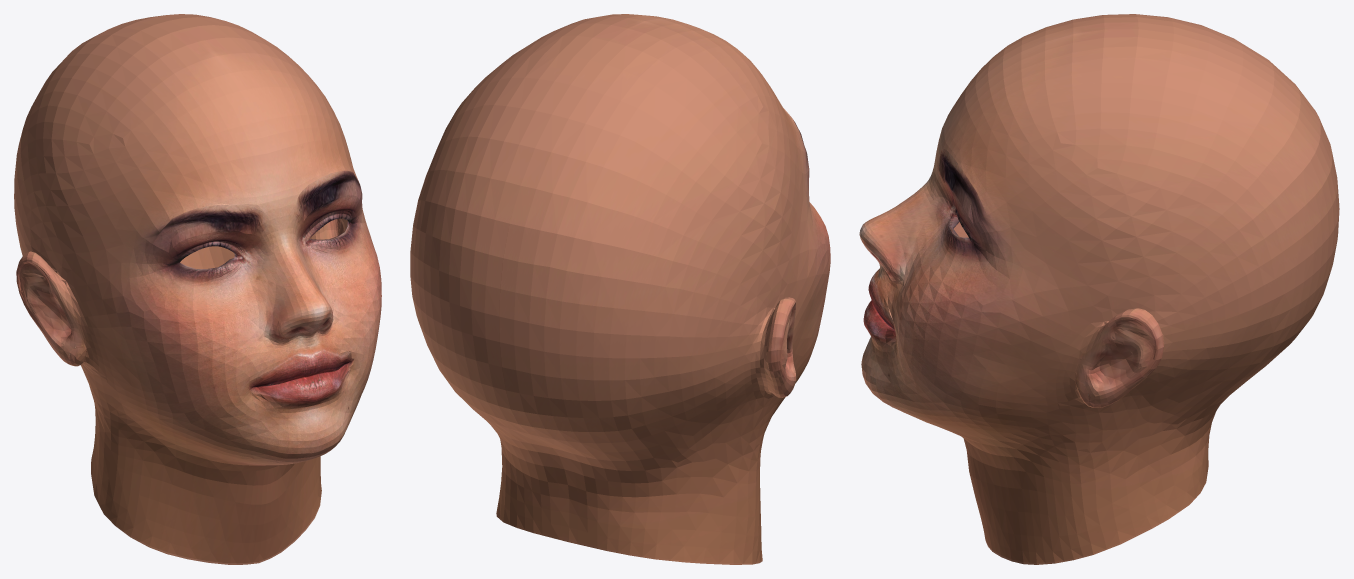
Rendered from puzzled.obj.
3 renders of one model, left to right at view 1: azimuth 30°, elevation 25°; view 2: azimuth 150°, elevation 25°; view 3: azimuth 270°, elevation 25°, orthographic. The views are drawn at different scales.
Parts seen in each view (by area): view 1: Mesh_skin_hi.001; view 2: Mesh_skin_hi.001; view 3: Mesh_skin_hi.001.
Part boxes in pixels (x1,y1,x2,y2): Mesh_skin_hi.001: [14, 14, 381, 564]; Mesh_skin_hi.001: [410, 14, 830, 564]; Mesh_skin_hi.001: [859, 14, 1339, 564].
Size of the model in its own units: 198 by 283 by 241.
5 materials, 5 textured.
